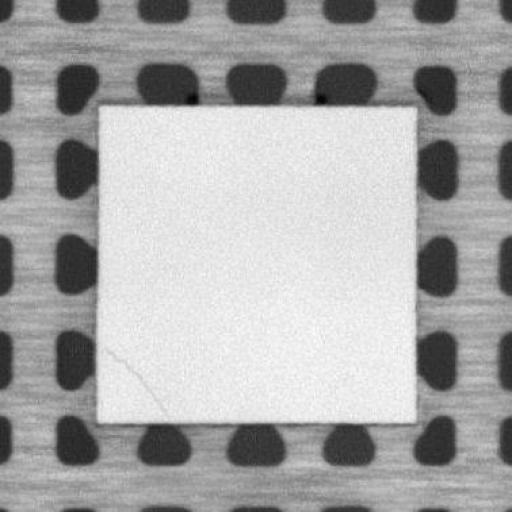DIE_CRACK: (103, 343, 168, 418)
